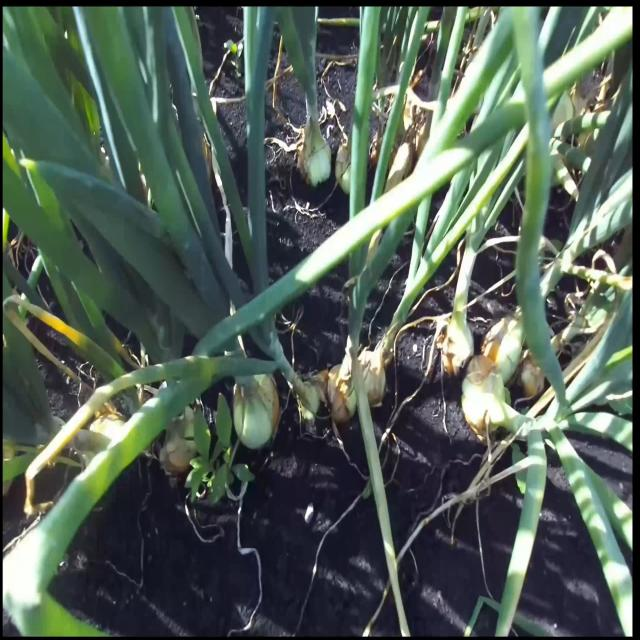onion: (232, 372, 280, 451), (464, 360, 505, 433), (486, 308, 524, 381), (163, 403, 201, 472), (434, 312, 470, 367), (299, 126, 331, 184), (356, 348, 384, 405), (337, 138, 364, 190), (330, 369, 358, 419)
